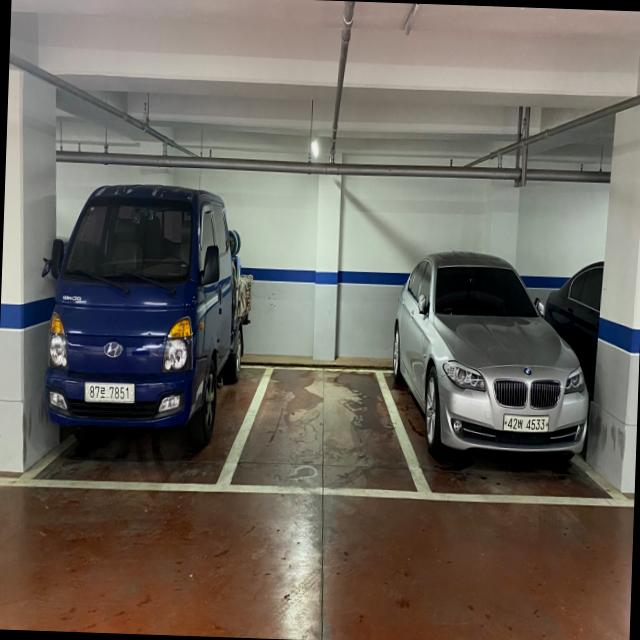car: (42, 185, 228, 443), (414, 243, 594, 460)
free: (218, 366, 428, 498)
